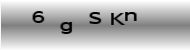6: (31, 10, 45, 24)
K: (109, 12, 125, 26)
S: (87, 11, 101, 24)
g: (59, 21, 73, 35)
n: (123, 10, 137, 22)
